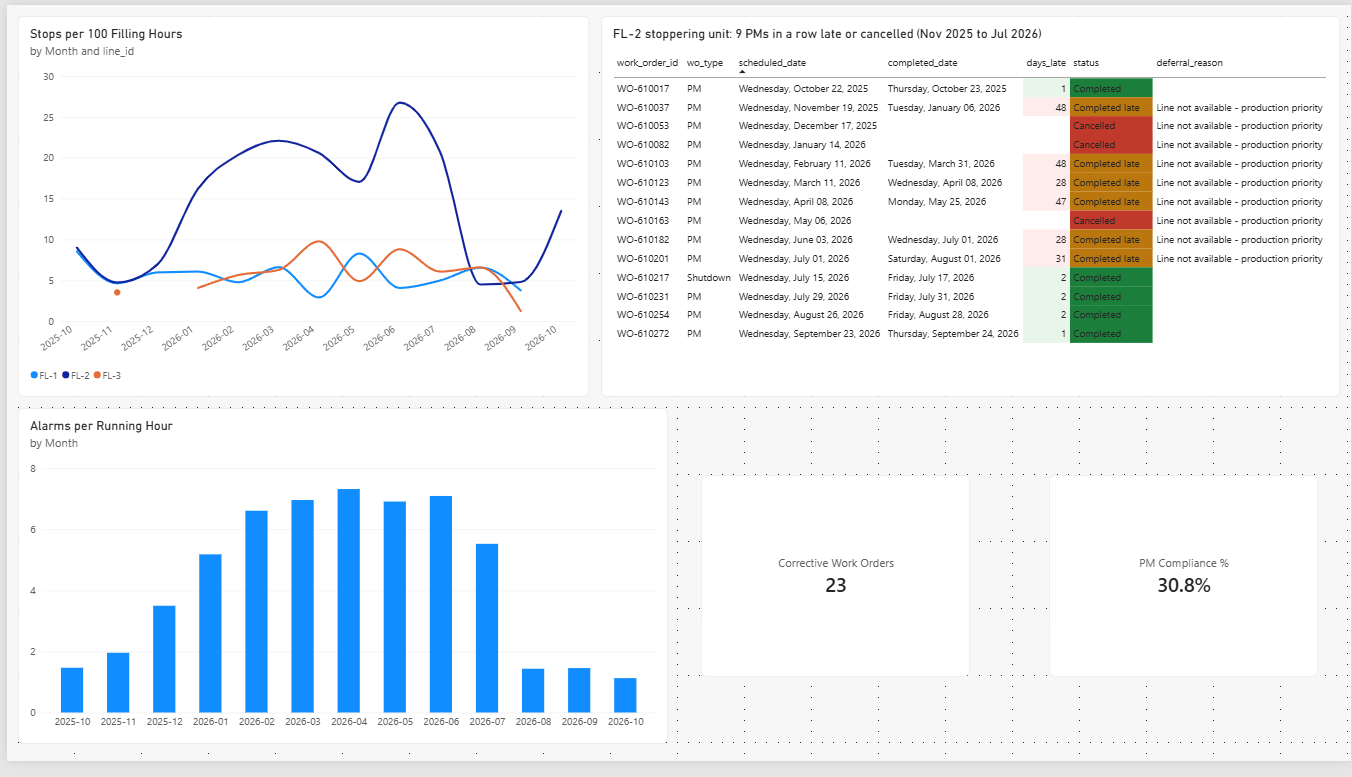

The page's visual inventory and layout, read from the dashboard file:
{"tool":"powerbi","page":{"name":"Issue 1","canvas":[1920,1080],"ordinal":4},"visuals":[{"type":"lineChart","fields":{"Category":["DimDate.Month"],"Series":["DimLine.line_id"],"Y":["_Measures.Stops per 100 Filling Hours"]},"box":[16,16,816,544],"z":0},{"type":"clusteredColumnChart","fields":{"Category":["DimDate.Month"],"Y":["_Measures.Alarms per Running Hour"]},"box":[16,576,928,480],"z":1},{"type":"tableEx","title":"FL-2 stoppering unit: 9 PMs in a row late or cancelled (Nov 2025 to Jul 2026)","fields":{"Values":["FactWorkOrder.work_order_id","FactWorkOrder.wo_type","FactWorkOrder.scheduled_date","FactWorkOrder.completed_date","FactWorkOrder.days_late","FactWorkOrder.status","FactWorkOrder.deferral_reason"]},"box":[848,16,1056,544],"z":2},{"type":"cardVisual","fields":{"Data":["_Measures.Corrective Work Orders"]},"box":[992,672,384,288],"z":3},{"type":"cardVisual","fields":{"Data":["_Measures.PM Compliance %"]},"box":[1488,672,384,288],"z":4}]}

Visuals, with their boxes in screenshot pixels (x1, y1, x2, y2), scaled from the page's 1920x1080 canvas onto the 1352x777 screenshot:
lineChart - DimDate.Month x DimLine.line_id: box(11, 12, 586, 403)
clusteredColumnChart - DimDate.Month x _Measures.Alarms per Running Hour: box(11, 414, 665, 760)
"FL-2 stoppering unit: 9 PMs in a row late or cancelled (Nov 2025 to Jul 2026)" tableEx: box(597, 12, 1341, 403)
cardVisual - _Measures.Corrective Work Orders: box(699, 483, 969, 691)
cardVisual - _Measures.PM Compliance %: box(1048, 483, 1318, 691)
